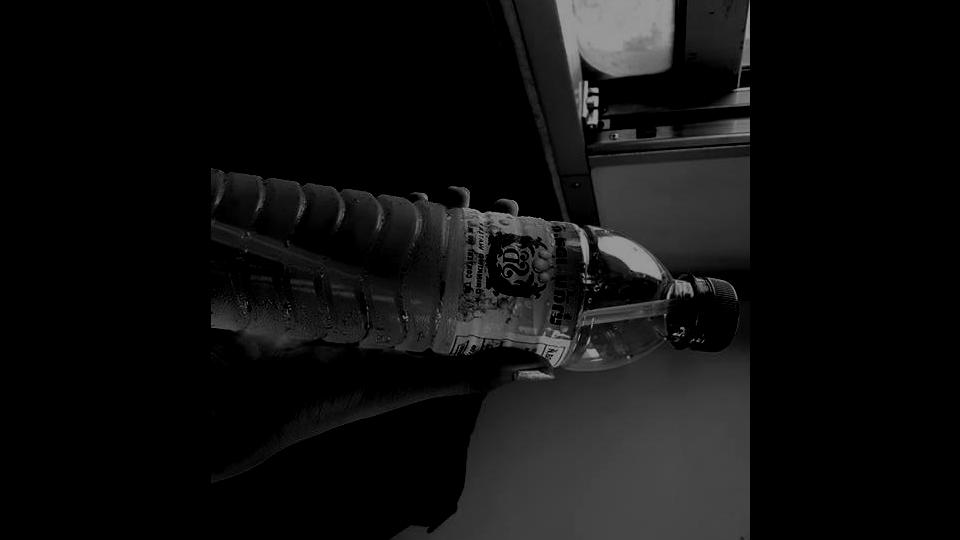bottle: (210, 157, 743, 377)
